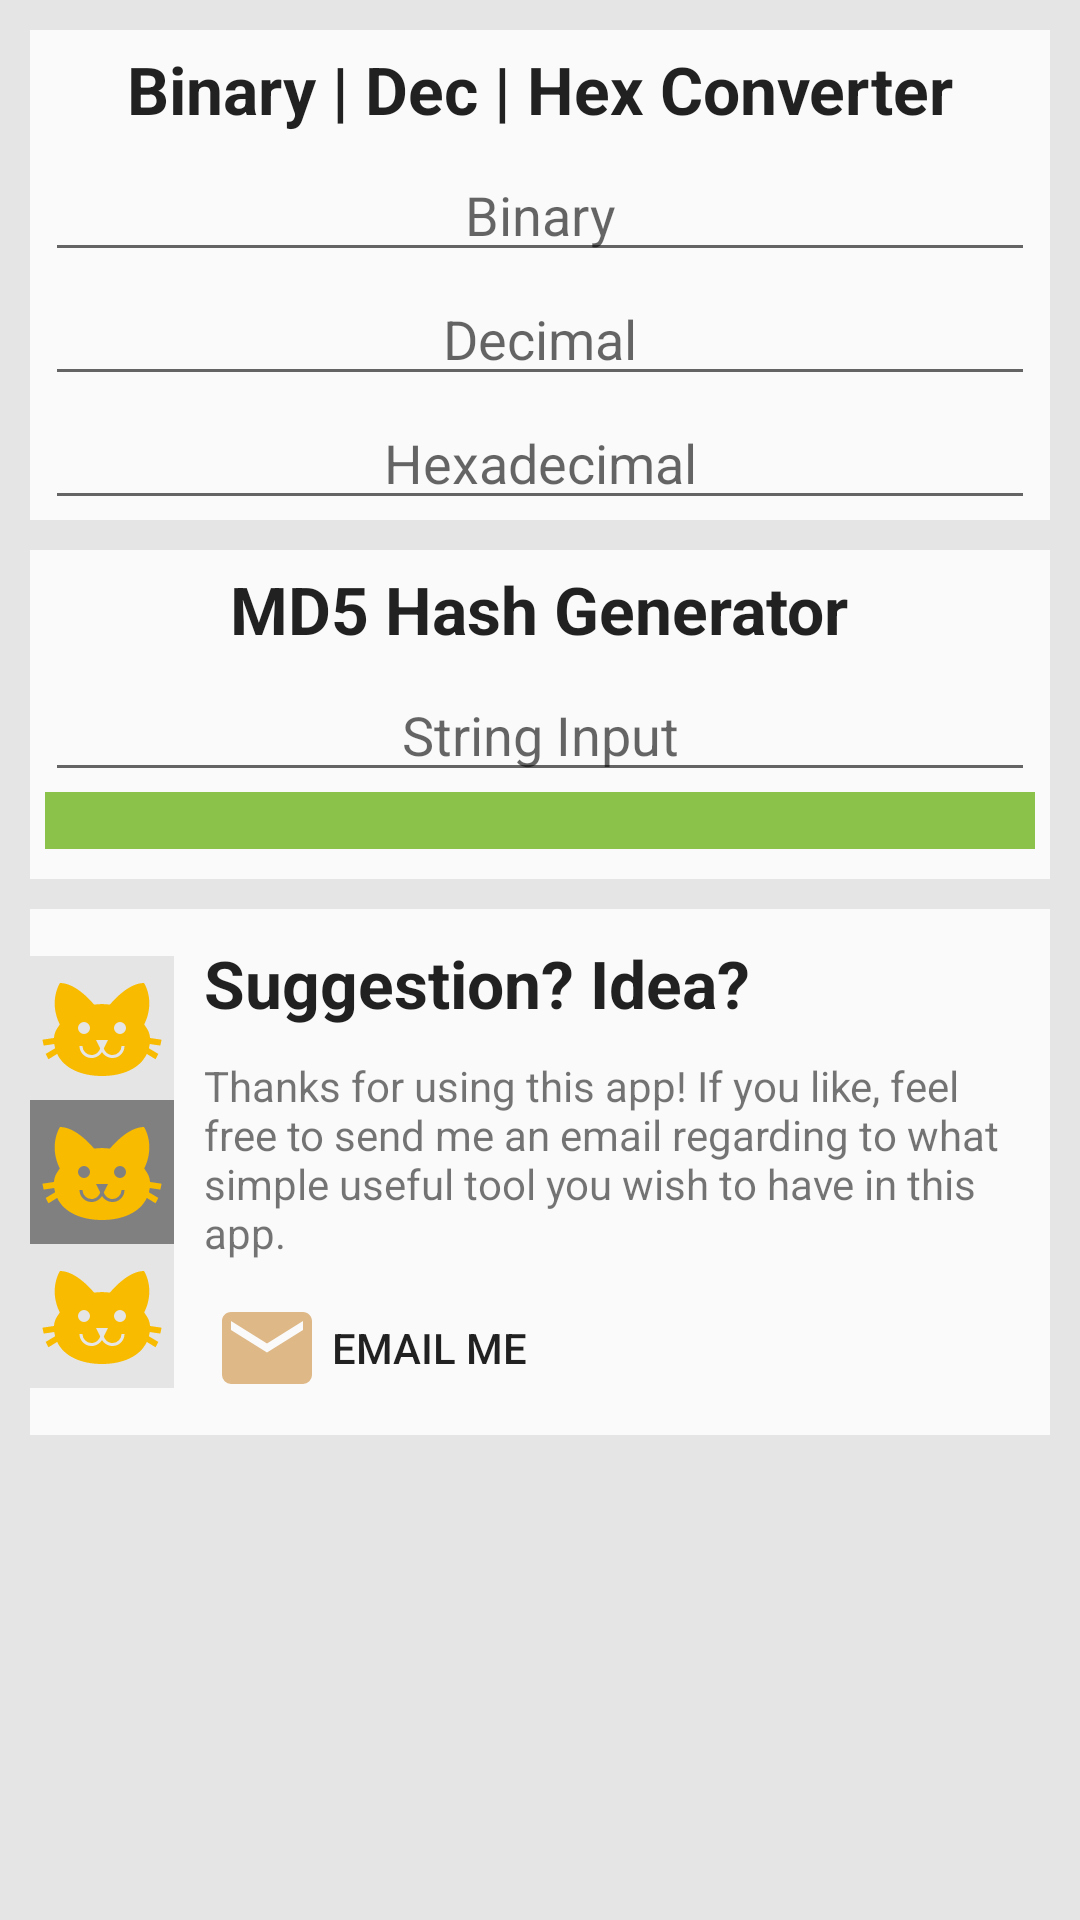

Named icons in this screenshot (1080x1920) and their centers, [x,y]:
cat: [102,1029], [102,1172], [102,1317]
